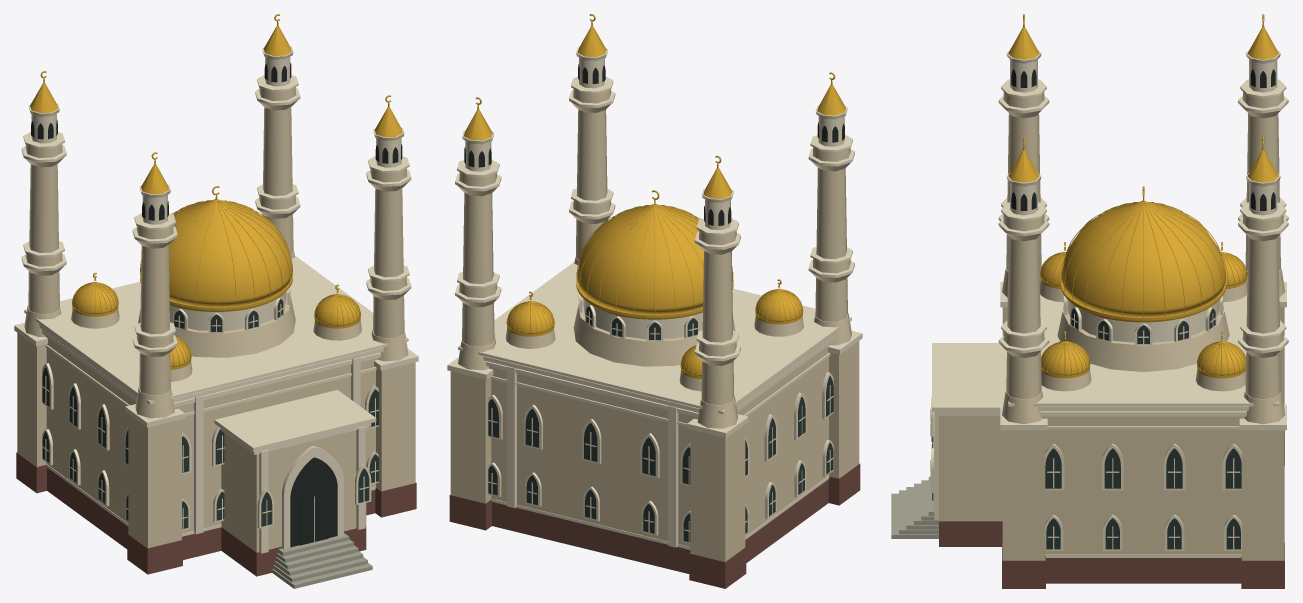
File: mosque-360.glb
3 views of the same model, side by side, from view 1: azimuth 30°, elevation 25°; view 2: azimuth 150°, elevation 25°; view 3: azimuth 270°, elevation 25° (orthographic). The views are drawn at different scales.
Parts seen in each view (by area): view 1: Карниз (×4), Основание минарета (×3), Основной молитвенный зал, Ствол минарета (×4), Золотой купол (×3), Входной портал, Верх портала, Цоколь минарета (×3), Ступень (×5), Нижний барабан, Цоколь, Тень входа (+12 smaller); view 2: Основной молитвенный зал, Карниз (×5), Основание минарета (×3), Ствол минарета (×4), Золотой купол (×3), Цоколь, Цоколь минарета (×3), Нижний барабан, Пилястра фасада (×2), Золотой шатёр (×4), Фонарь минарета (×4), Переход (×3) (+4 smaller); view 3: Основной молитвенный зал, Золотой купол (×5), Ствол минарета (×4), Карниз (×5), Основание минарета (×2), Входной портал, Цоколь, Верх портала, Нижний барабан, Цоколь минарета (×2), Фонарь минарета (×4), Золотой шатёр (×4) (+8 smaller).
Boxes of the visible parts, x1=… form: Карниз (×4): x1=24, y1=256, x2=408, y2=416; Основание минарета (×3): x1=17, y1=333, x2=415, y2=548; Основной молитвенный зал: x1=45, y1=336, x2=378, y2=533; Ствол минарета (×4): x1=28, y1=107, x2=404, y2=395; Золотой купол (×3): x1=72, y1=201, x2=360, y2=325; Входной портал: x1=221, y1=428, x2=366, y2=552; Верх портала: x1=214, y1=390, x2=376, y2=451; Цоколь минарета (×3): x1=16, y1=452, x2=416, y2=574; Ступень (×5): x1=272, y1=539, x2=372, y2=588; Нижний барабан: x1=138, y1=292, x2=295, y2=357; Цоколь: x1=47, y1=467, x2=375, y2=559; Тень входа: x1=290, y1=457, x2=337, y2=547; Основной молитвенный зал: x1=489, y1=344, x2=830, y2=546; Карниз (×5): x1=458, y1=262, x2=851, y2=549; Основание минарета (×3): x1=450, y1=341, x2=859, y2=561; Ствол минарета (×4): x1=462, y1=109, x2=847, y2=405; Золотой купол (×3): x1=507, y1=205, x2=802, y2=333; Цоколь: x1=492, y1=479, x2=828, y2=573; Цоколь минарета (×3): x1=449, y1=463, x2=860, y2=588; Нижний барабан: x1=573, y1=299, x2=735, y2=366; Пилястра фасада (×2): x1=507, y1=366, x2=678, y2=547; Золотой шатёр (×4): x1=464, y1=26, x2=845, y2=198; Фонарь минарета (×4): x1=465, y1=57, x2=844, y2=229; Переход (×3): x1=458, y1=313, x2=851, y2=428; Основной молитвенный зал: x1=1042, y1=416, x2=1244, y2=554; Золотой купол (×5): x1=1040, y1=202, x2=1246, y2=375; Ствол минарета (×4): x1=1006, y1=113, x2=1280, y2=399; Карниз (×5): x1=1008, y1=278, x2=1278, y2=557; Основание минарета (×2): x1=1002, y1=430, x2=1284, y2=560; Входной портал: x1=939, y1=416, x2=1002, y2=521; Цоколь: x1=1046, y1=558, x2=1241, y2=583; Верх портала: x1=932, y1=343, x2=1006, y2=411; Нижний барабан: x1=1057, y1=301, x2=1229, y2=371; Цоколь минарета (×2): x1=1002, y1=542, x2=1284, y2=588; Фонарь минарета (×4): x1=1010, y1=59, x2=1277, y2=215; Золотой шатёр (×4): x1=1008, y1=27, x2=1278, y2=182.
Bounding box in the file's own units: 13.26 × 18.97 × 15.43.
